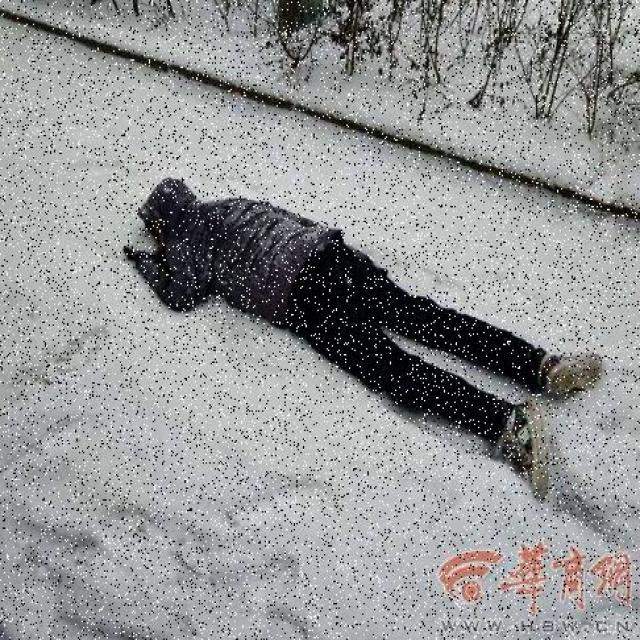fall: (142, 186, 591, 474)
